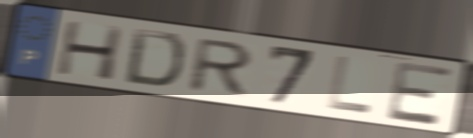7: (266, 43, 319, 107)
D: (121, 26, 188, 91)
E: (384, 59, 456, 128)
H: (53, 18, 127, 83)
L: (324, 53, 376, 117)
R: (184, 36, 258, 99)
